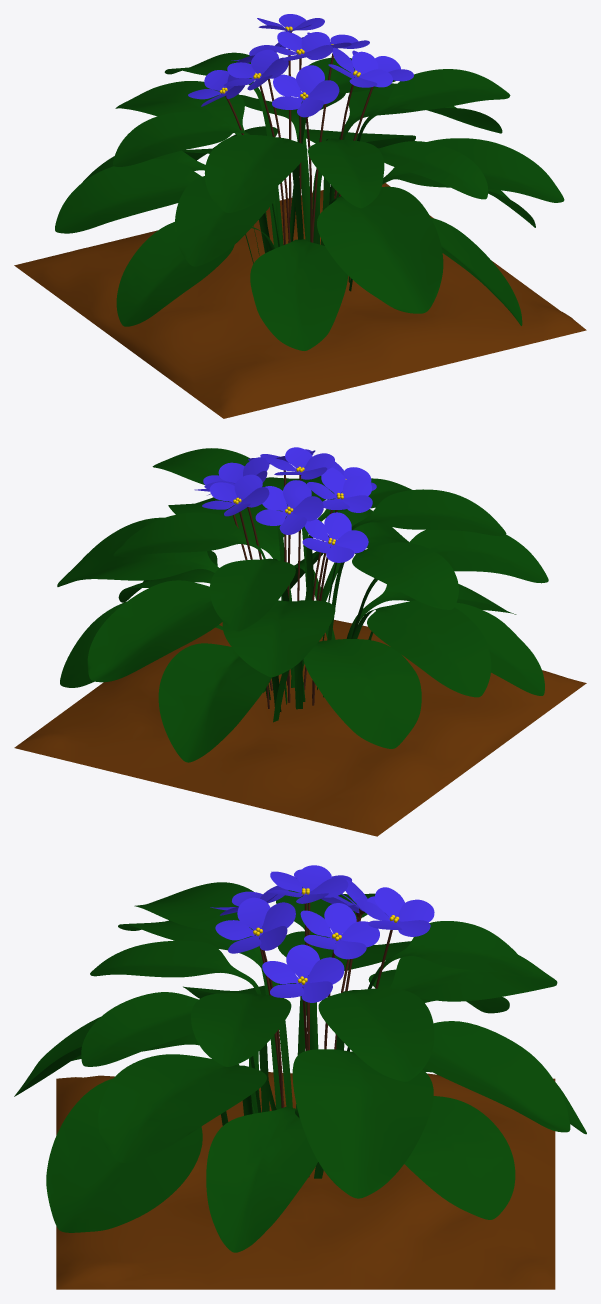
File: violets-p4-bloom.glb
3 renders of one model, top to bottom at view 1: azimuth 30°, elevation 25°; view 2: azimuth 150°, elevation 25°; view 3: azimuth 270°, elevation 25°, orthographic. The views are drawn at different scales.
Visible parts, largest first — view 1: 4_nft_bloom; view 2: 4_nft_bloom; view 3: 4_nft_bloom.
Part boxes in pixels (box(x1,y1,x2,y2)): 4_nft_bloom: box(14, 14, 586, 418); 4_nft_bloom: box(14, 447, 586, 836); 4_nft_bloom: box(14, 865, 586, 1289).
Bounding box in the file's own units: 0.8335 × 0.4675 × 0.8036.
